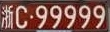C: (16, 6, 27, 29)
